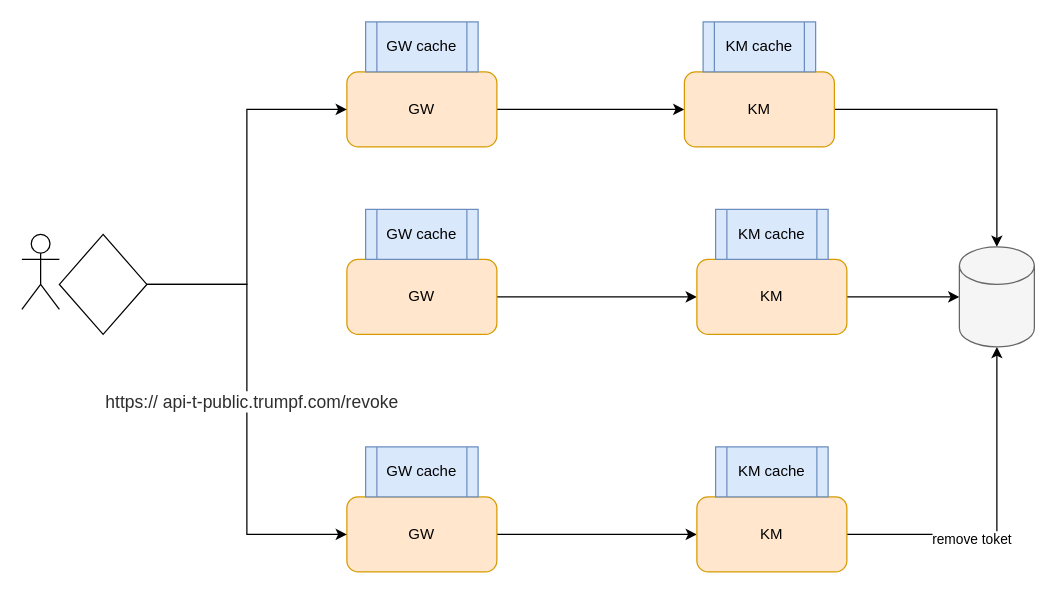
The diagram is 1056 pixels wide and 594 high, and some of its shapes have lost their labels. Each missing label, with the box of its shape:
Actor: (21, 233, 59, 309)
LB: (58, 233, 147, 334)
